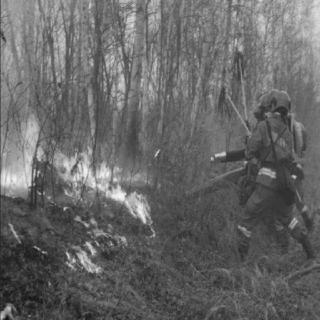Fire: (2, 98, 162, 275), (1, 300, 25, 320)
